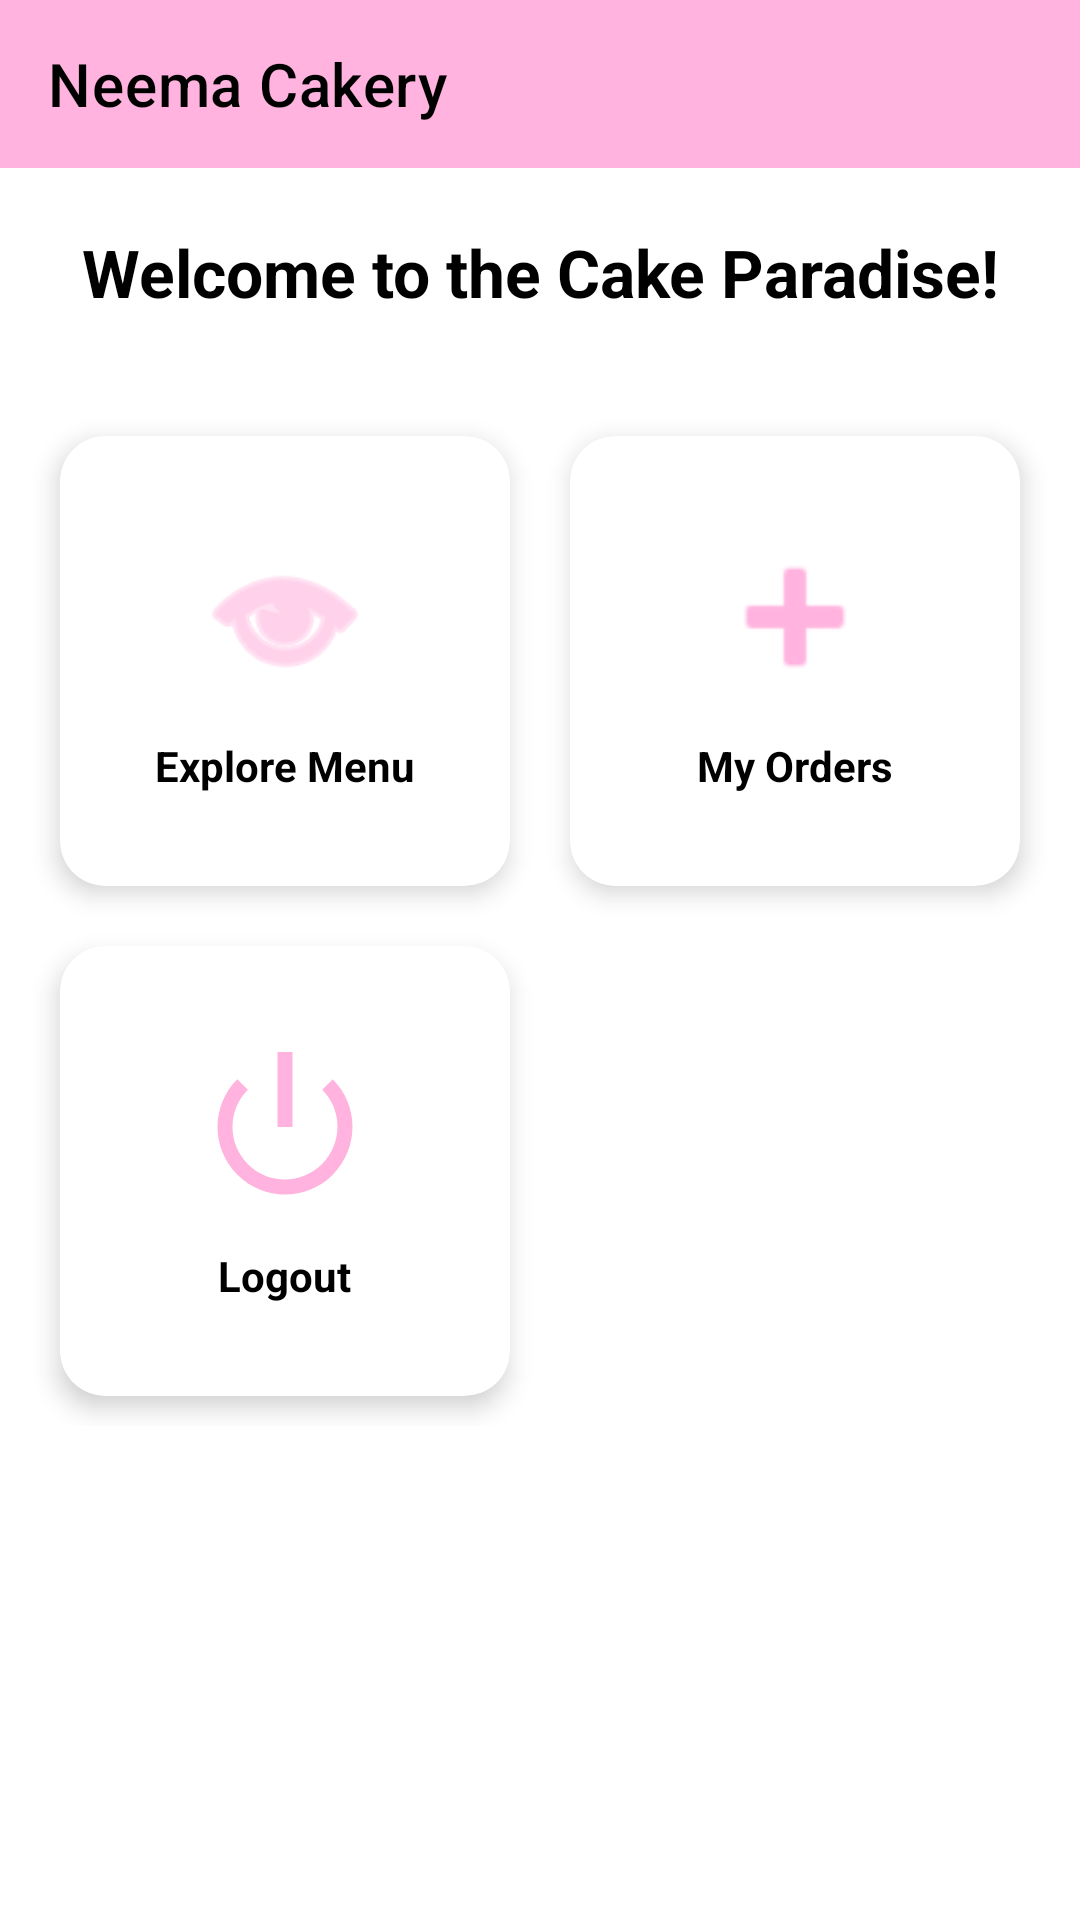

Named icons in this screenshot (1080 × 1920) and their bounding boxes, [x1,y1,x2,y2]:
add: [745,568,845,666]
lock power off: [217,1052,353,1195]
view: [213,577,357,666]
